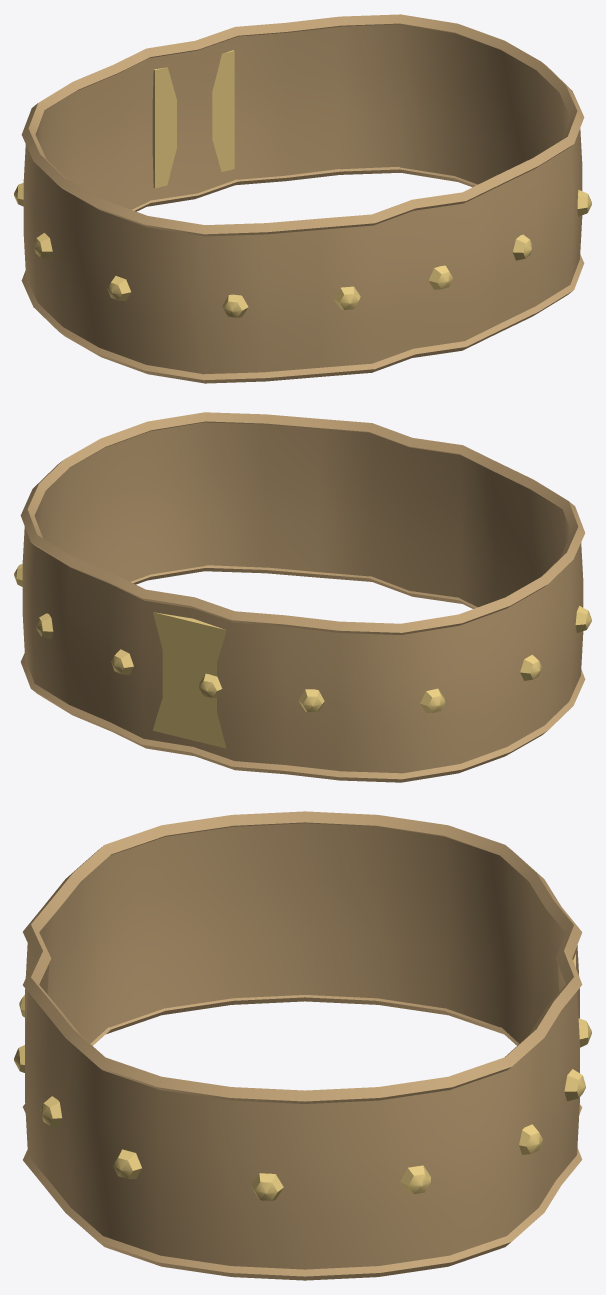
Rendered from balteus.glb.
3 renders of one model, top to bottom at view 1: azimuth 30°, elevation 25°; view 2: azimuth 150°, elevation 25°; view 3: azimuth 270°, elevation 25°, orthographic. The views are drawn at different scales.
Visible parts, largest first — view 1: OUT; view 2: OUT; view 3: OUT.
Boxes of the visible parts, bbox=[...] form: OUT: bbox=[14, 14, 591, 383]; OUT: bbox=[14, 412, 591, 782]; OUT: bbox=[14, 811, 591, 1280].
Bounding box in the file's own units: 0.3798 × 0.114 × 0.3142.
